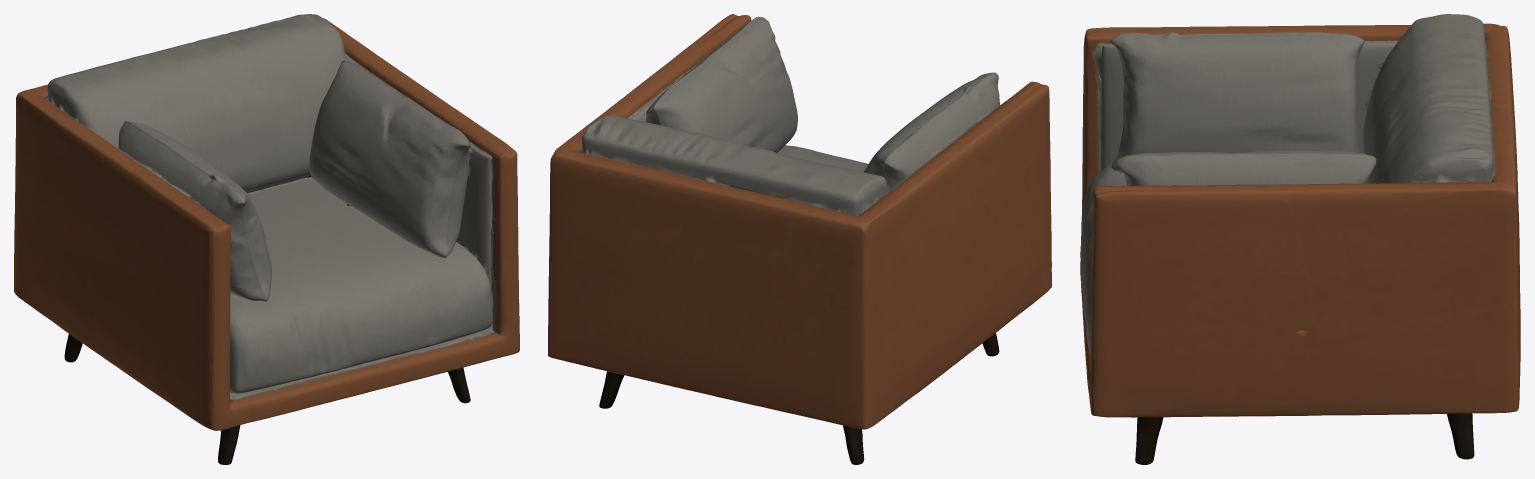
3 views of the same model, side by side, from view 1: azimuth 30°, elevation 25°; view 2: azimuth 150°, elevation 25°; view 3: azimuth 270°, elevation 25° (orthographic). The views are drawn at different scales.
Visible parts, largest first — view 1: tripo_node_1519d91c-ce05-4cdc-b4c0-5ec0899ed265; view 2: tripo_node_1519d91c-ce05-4cdc-b4c0-5ec0899ed265; view 3: tripo_node_1519d91c-ce05-4cdc-b4c0-5ec0899ed265.
Boxes of the visible parts, x1,y1,x2,y2 form: tripo_node_1519d91c-ce05-4cdc-b4c0-5ec0899ed265: [14, 14, 519, 464]; tripo_node_1519d91c-ce05-4cdc-b4c0-5ec0899ed265: [548, 14, 1051, 464]; tripo_node_1519d91c-ce05-4cdc-b4c0-5ec0899ed265: [1080, 14, 1520, 464].
Bounding box in the file's own units: 0.85 × 0.7 × 0.9.
Materials: 2 (2 with a texture image).
